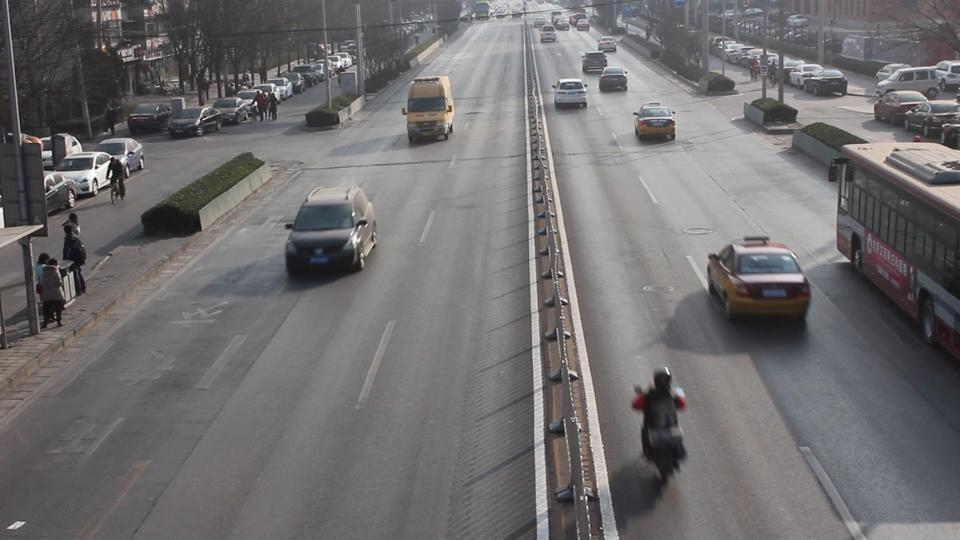car: (704, 235, 812, 322), (284, 182, 379, 278), (53, 152, 115, 200), (876, 66, 947, 99), (871, 90, 931, 126), (904, 101, 960, 139), (94, 137, 147, 175), (787, 64, 846, 96), (167, 105, 223, 138), (633, 102, 677, 143), (38, 133, 84, 169), (127, 101, 174, 134), (44, 171, 78, 214), (207, 97, 254, 125), (553, 78, 589, 110), (599, 66, 628, 92), (582, 50, 609, 74), (267, 79, 296, 100), (539, 24, 557, 43), (597, 36, 617, 53)
